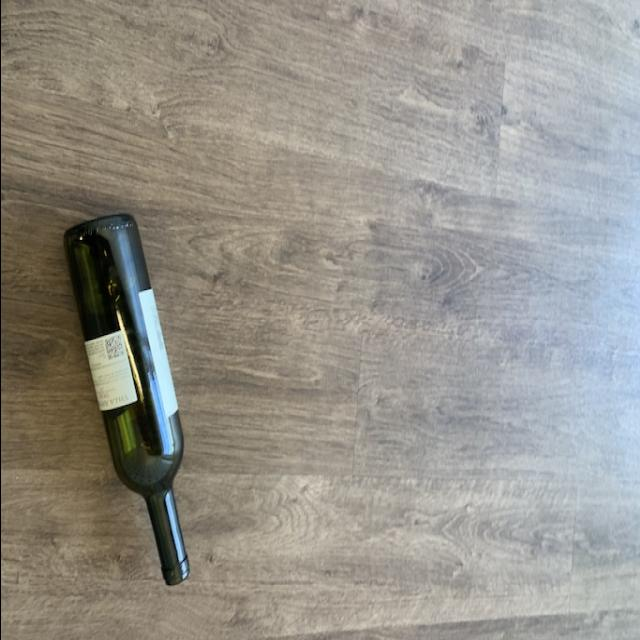litter: (60, 212, 194, 590)
